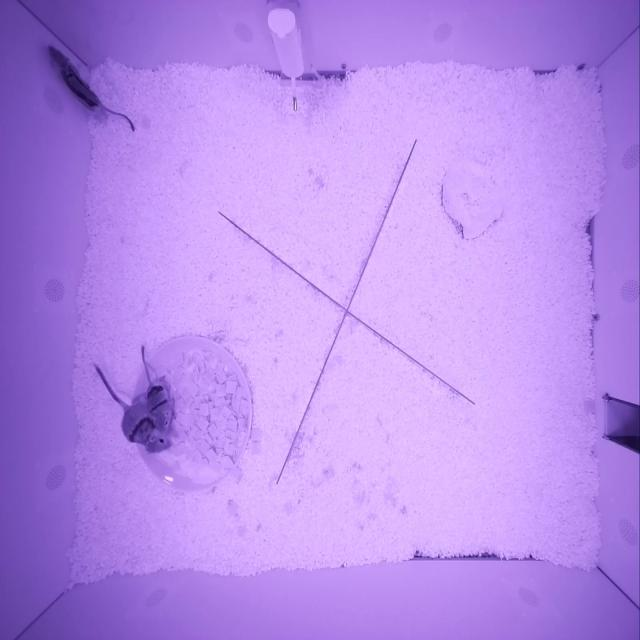adult_front: (121, 400, 174, 453)
pup_h_stripe: (147, 382, 171, 432)
pup_v_stripe: (48, 45, 107, 117)
